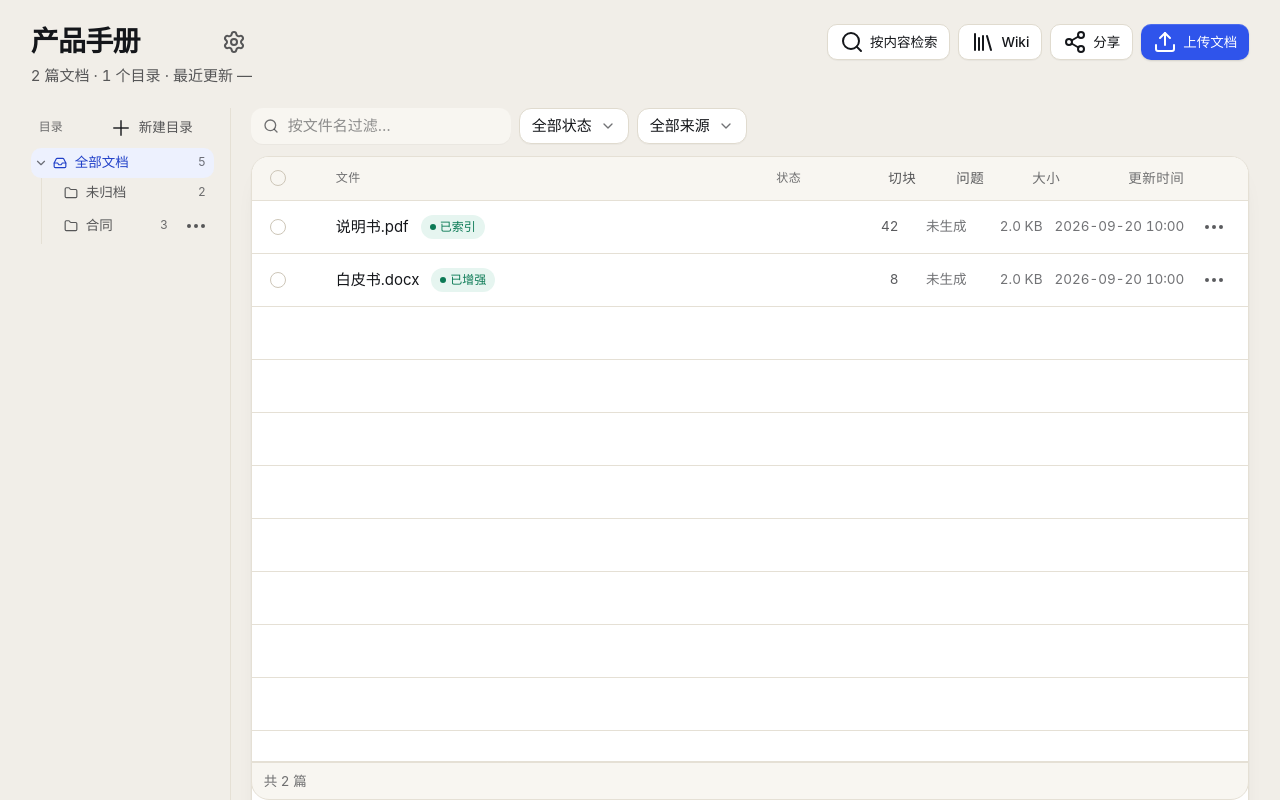
Test: 多选与批量 › 批量部分失败：逐条报账，并只保留失败的那些（方便直接重试）
The image size is (1280, 800).
Check: the text "说明书.pdf" is shown, box x1=336 y1=215 x2=409 y2=238
What coordinates should you click on to do the following:
click the checkbox named "全选本页"
I would click on:
 (278, 178)
Its box is x1=270 y1=170 x2=286 y2=186.
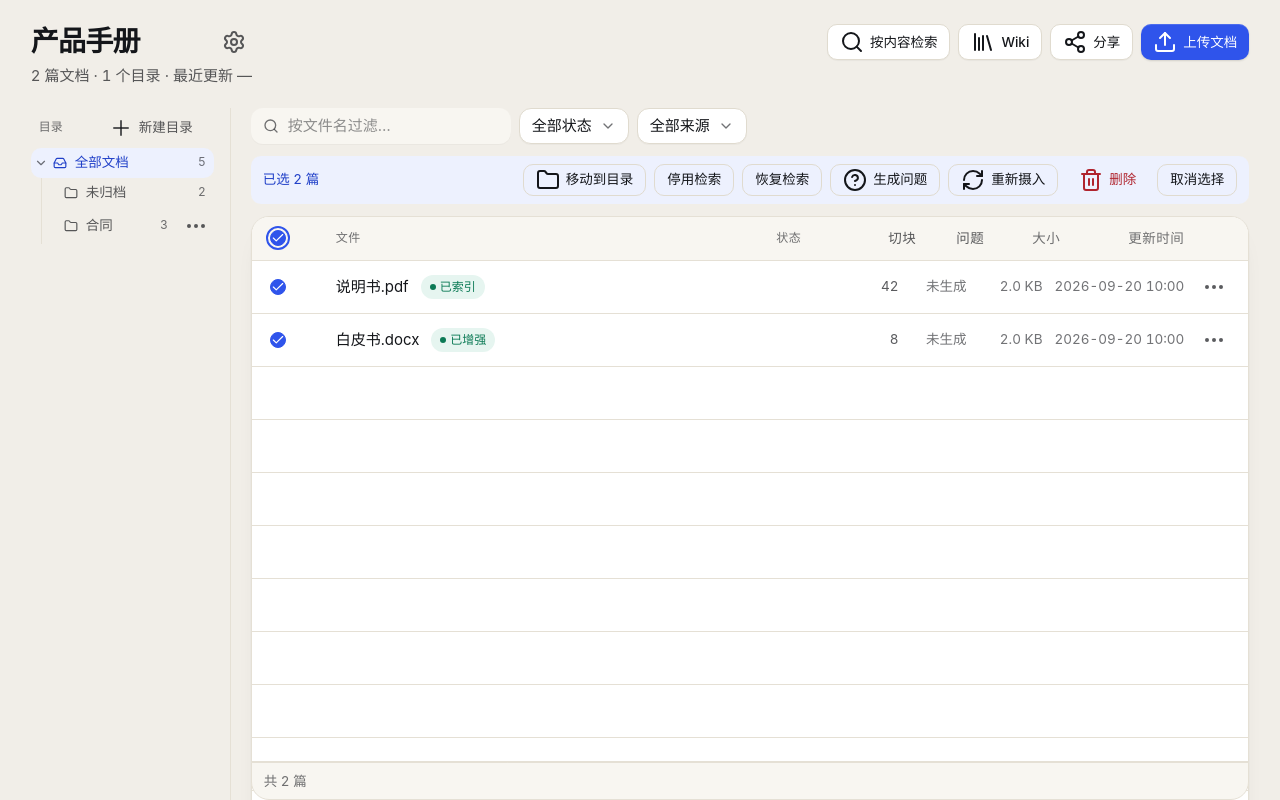
What coordinates should you click on to do the following:
click the button "重新摄入"
I would click on:
 (1003, 180)
Its box is x1=948 y1=164 x2=1058 y2=196.
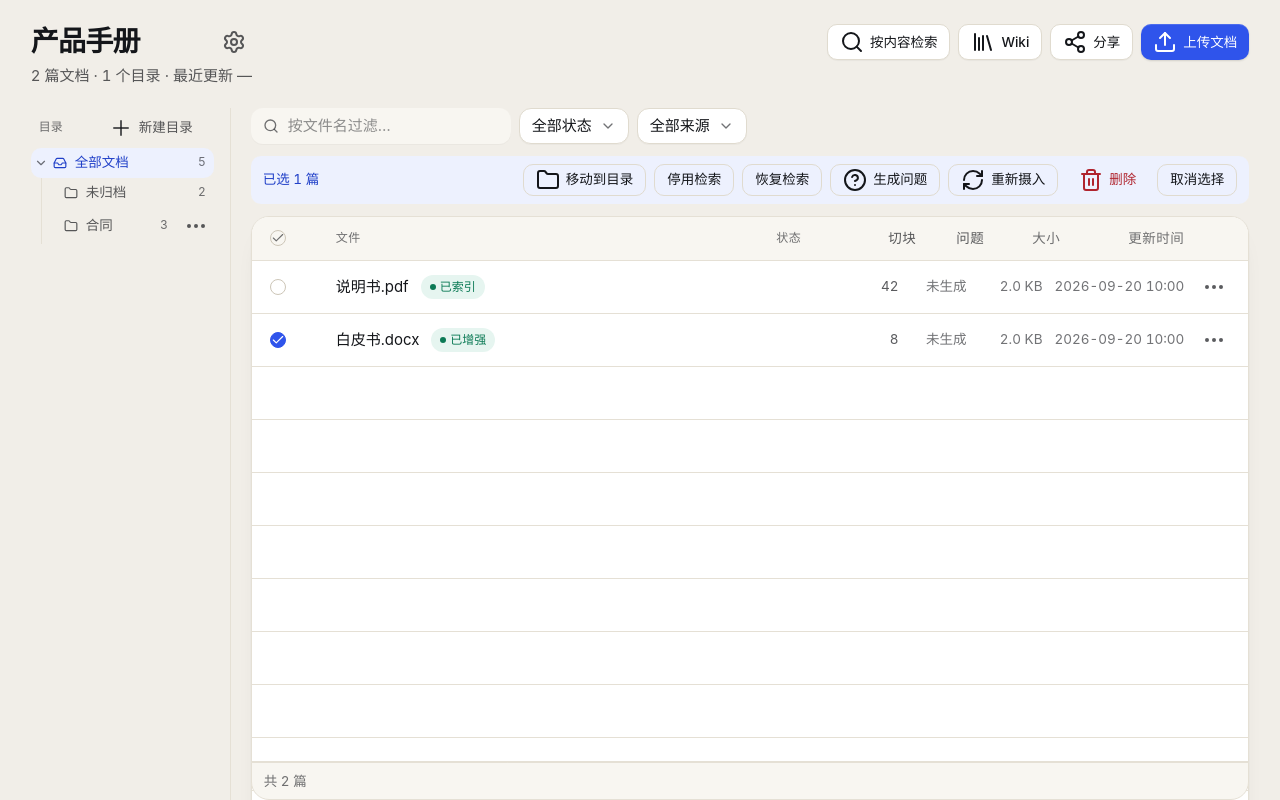
Check: the text "已选 1 篇" is shown, box x1=263 y1=169 x2=319 y2=190
